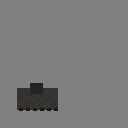armoured_vehicle: (17, 88, 58, 110)
